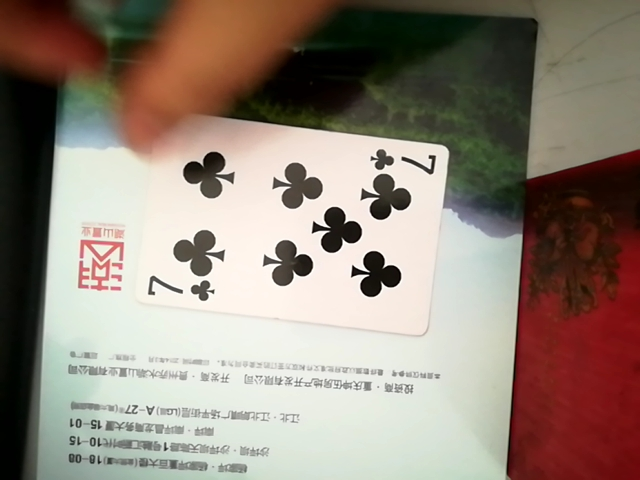mh 7: (56, 109, 460, 334)
